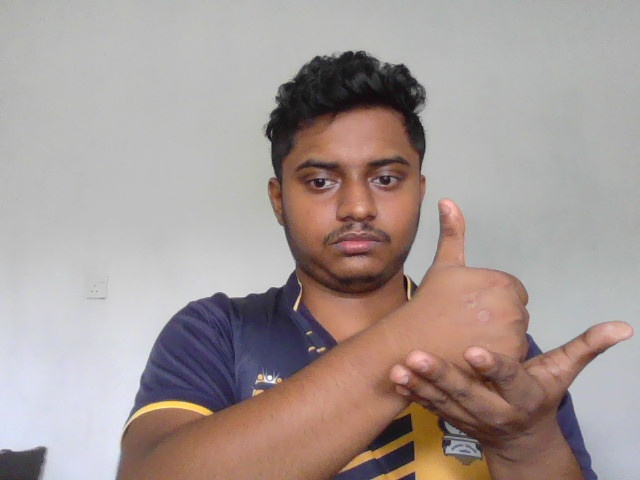Help: (389, 197, 635, 442)
